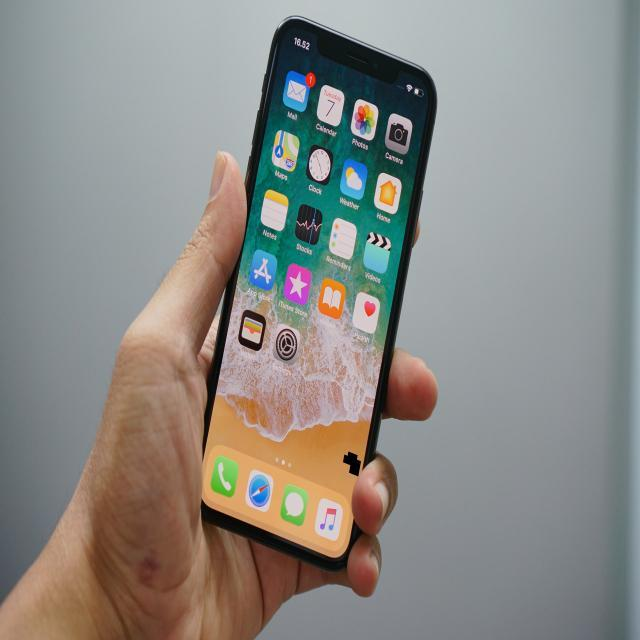dead pixel: (332, 442, 370, 483)
